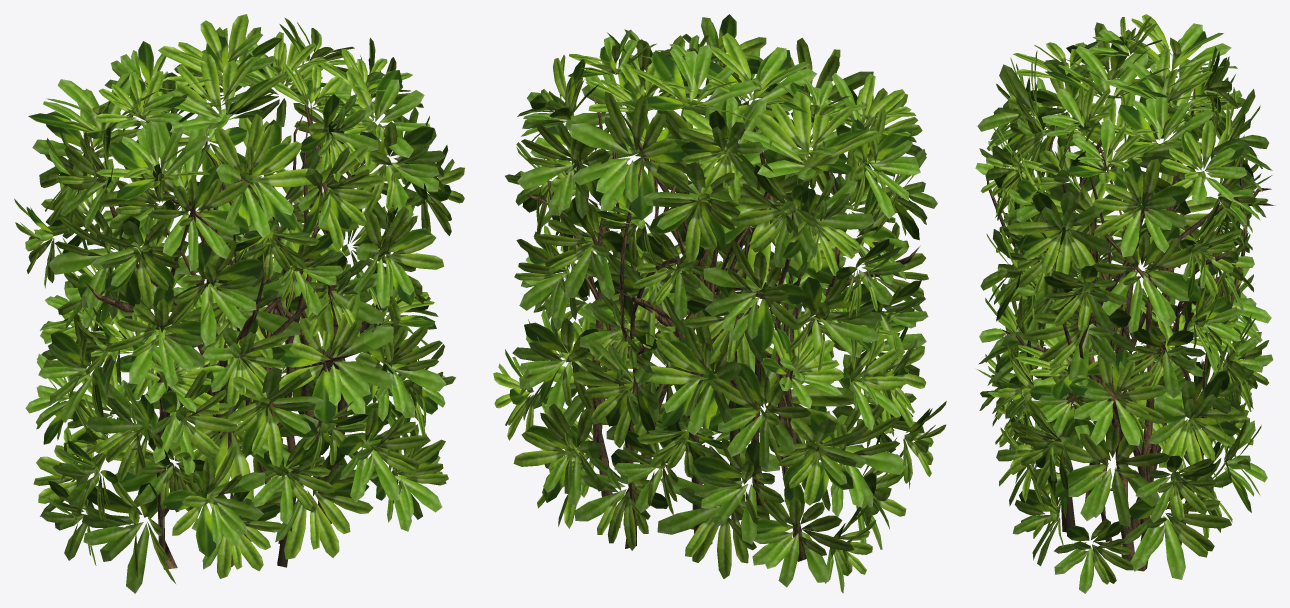
Rendered from high-hedge.obj.
3 views of the same model, side by side, from view 1: azimuth 30°, elevation 25°; view 2: azimuth 150°, elevation 25°; view 3: azimuth 270°, elevation 25° (orthographic). The views are drawn at different scales.
Visible parts, largest first — view 1: leaves_Plane.020, branches_stems_1.003; view 2: leaves_Plane.020, branches_stems_1.003; view 3: leaves_Plane.020, branches_stems_1.003.
Boxes of the visible parts, box(x1,y1,x2,y2) form: leaves_Plane.020: box(14, 14, 464, 593); branches_stems_1.003: box(84, 61, 395, 569); leaves_Plane.020: box(493, 14, 946, 593); branches_stems_1.003: box(526, 64, 919, 561); leaves_Plane.020: box(975, 14, 1273, 593); branches_stems_1.003: box(986, 88, 1275, 571).
Size of the model in its own units: 151 by 179 by 104.
